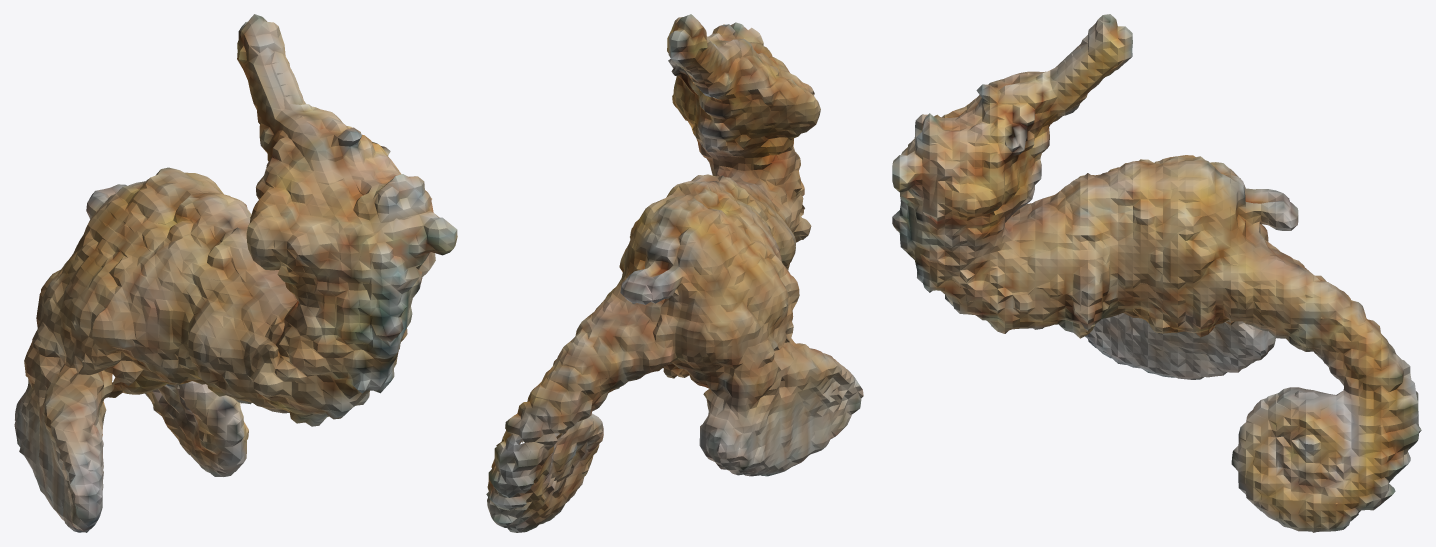
3 views of the same model, side by side, from view 1: azimuth 30°, elevation 25°; view 2: azimuth 150°, elevation 25°; view 3: azimuth 270°, elevation 25° (orthographic). The views are drawn at different scales.
Parts seen in each view (by area): view 1: world; view 2: world; view 3: world.
Part boxes in pixels (left/top/right/bottom): world: left=14, top=14, right=457, bottom=532; world: left=486, top=14, right=863, bottom=532; world: left=892, top=14, right=1421, bottom=532.
Bounding box in the file's own units: 0.5425 × 0.9723 × 0.9641.
